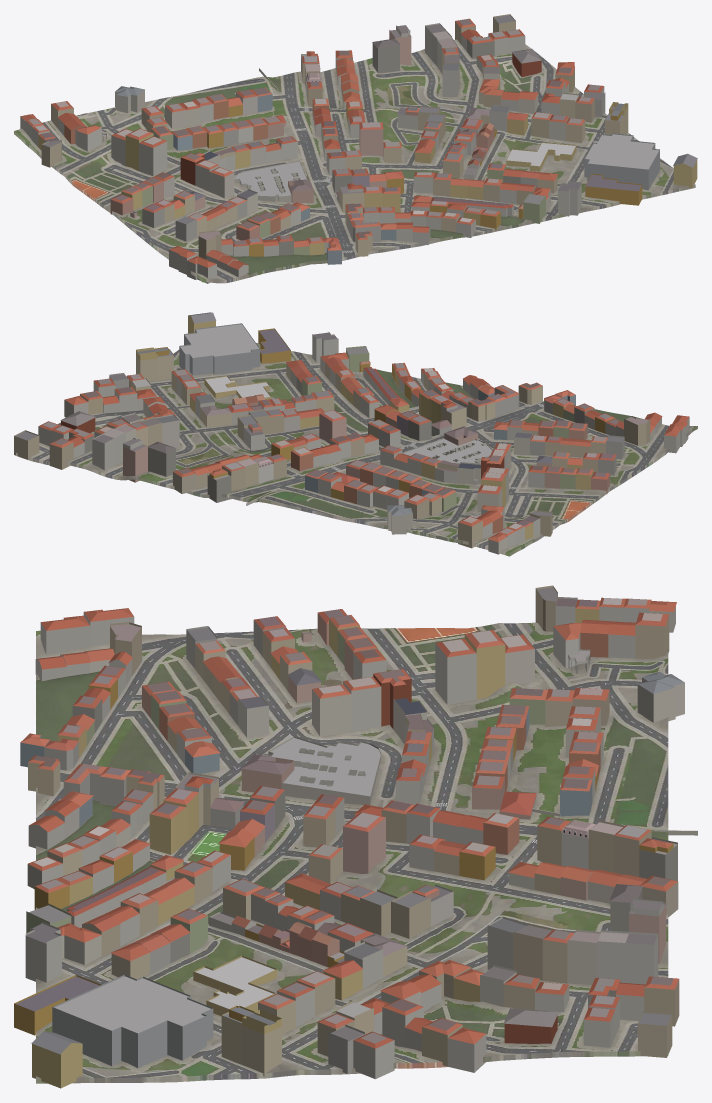
3 renders of one model, top to bottom at view 1: azimuth 30°, elevation 25°; view 2: azimuth 150°, elevation 25°; view 3: azimuth 270°, elevation 25°, orthographic. The views are drawn at different scales.
Parts seen in each view (by area): view 1: buildings, terrain; view 2: buildings, terrain; view 3: buildings, terrain.
Boxes of the visible parts, x1,y1,x2,y2 form: buildings: (20,14,697,283); terrain: (14,36,695,283); buildings: (14,312,689,554); terrain: (16,343,697,556); buildings: (14,585,697,1088); terrain: (36,622,668,1083).
Bounding box in the file's own units: 517 × 58.19 × 358.
Materials: 2 (1 with a texture image).
